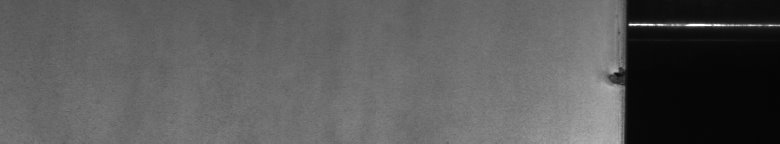hb: (598, 60, 616, 92)
